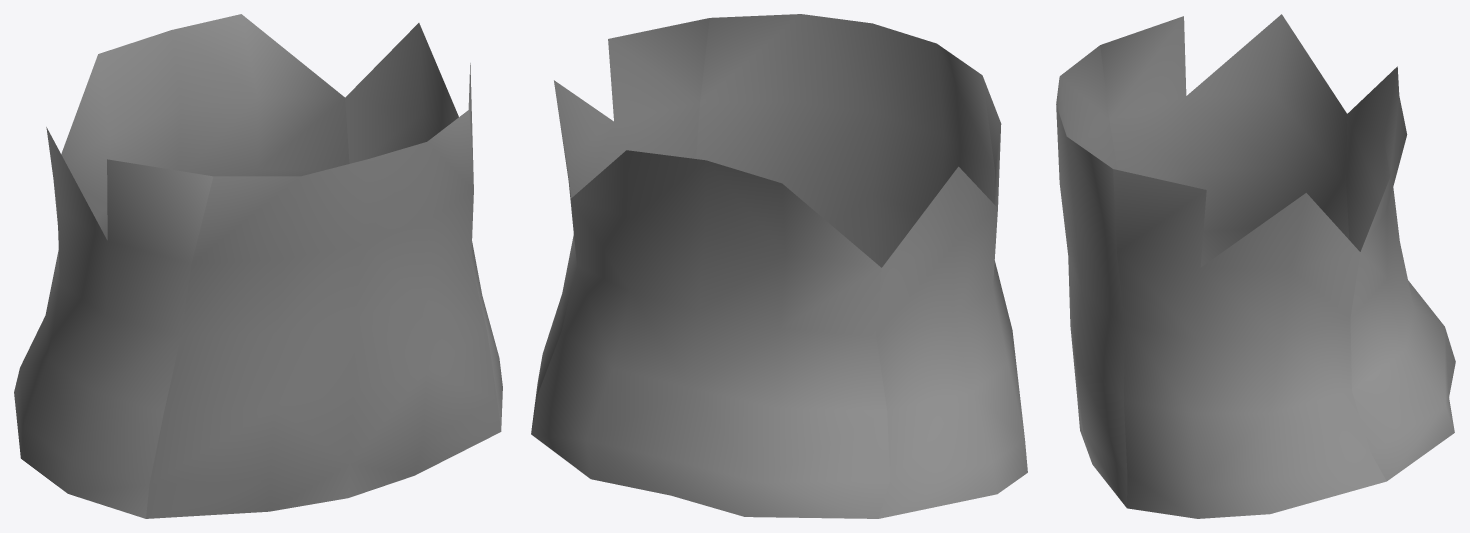
File: spine.glb
The picture shows the model from 3 angles, left to right: view 1: azimuth 30°, elevation 25°; view 2: azimuth 150°, elevation 25°; view 3: azimuth 270°, elevation 25°; orthographic projection. The views are drawn at different scales.
Visible parts, largest first — view 1: polo-grey_SPINE; view 2: polo-grey_SPINE; view 3: polo-grey_SPINE.
Boxes of the visible parts, x1,y1,x2,y2 form: polo-grey_SPINE: (14,14,502,518); polo-grey_SPINE: (531,14,1027,518); polo-grey_SPINE: (1056,14,1455,518).
Bounding box in the file's own units: 0.423 × 0.3106 × 0.34.
Materials: 1 (1 with a texture image).
